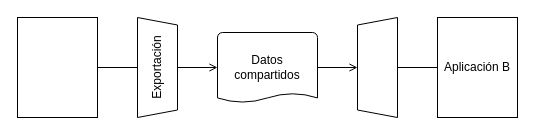
Image size: 535x135. Some labels were removed from this diagram. Each missing label, with the centre of its shape:
Aplicación A: the point at 57,67
Importación: the point at 377,67
